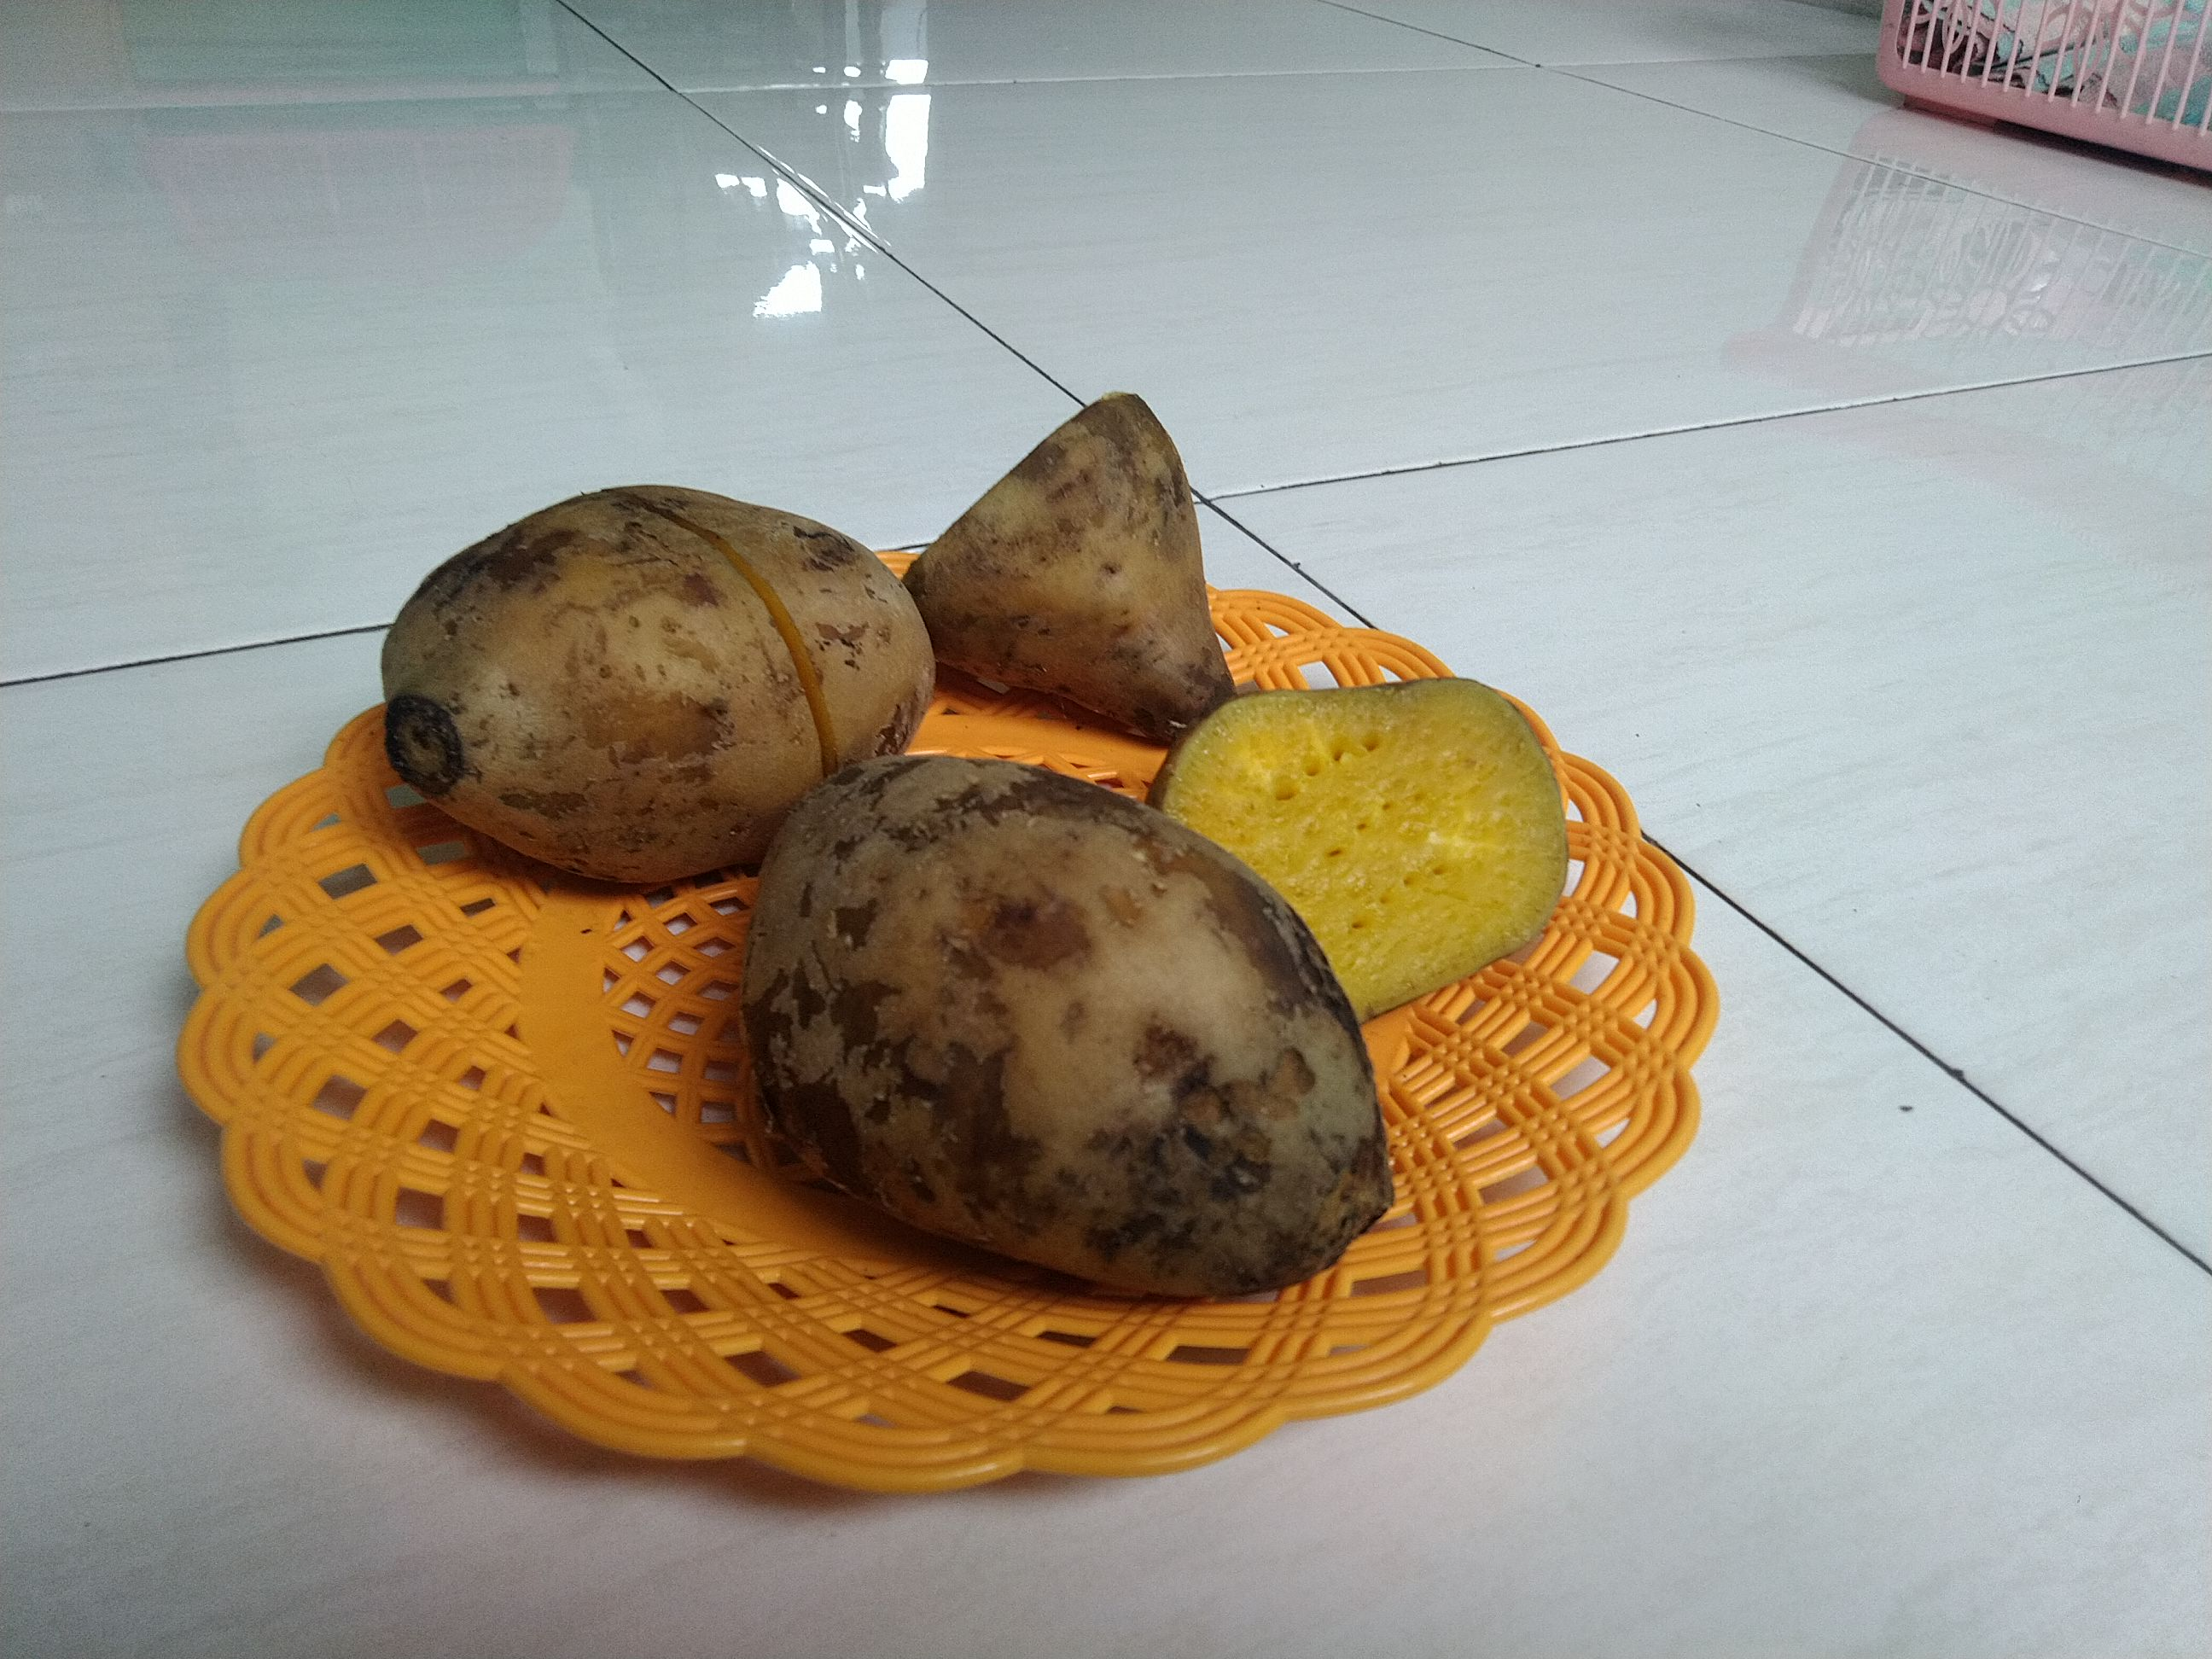ubi kuning: (725, 751, 1404, 1321), (364, 451, 953, 906), (1139, 660, 1575, 1018), (900, 383, 1231, 741)
